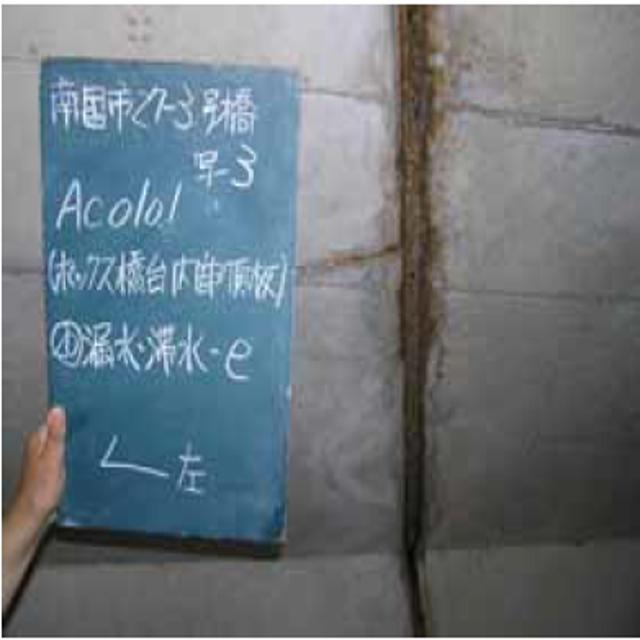leakage: (369, 10, 447, 640)
